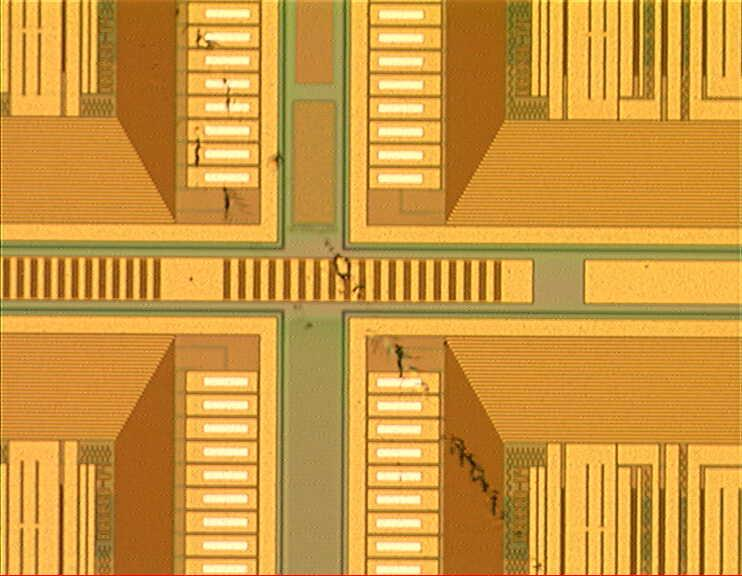SCRATCH: (167, 1, 560, 576)
